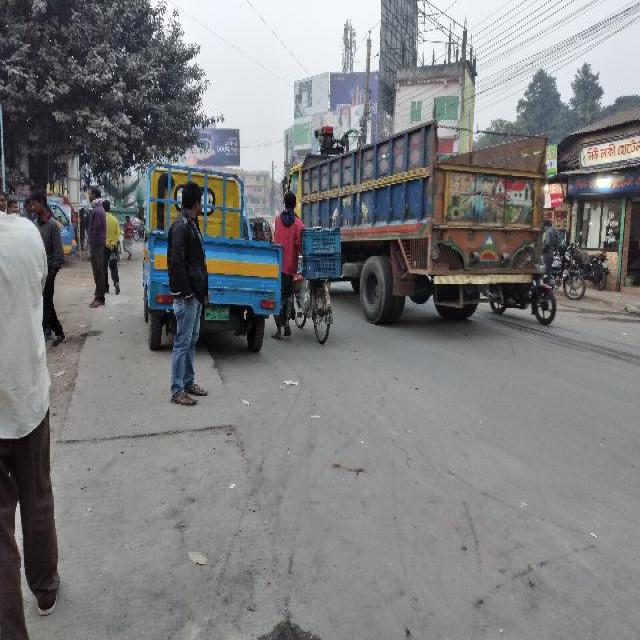bike: (289, 260, 338, 350), (485, 284, 561, 326), (546, 241, 587, 300), (568, 235, 611, 291)
vehicle: (287, 135, 547, 320), (146, 158, 282, 359), (47, 200, 77, 253), (240, 216, 275, 242), (133, 213, 144, 241)
